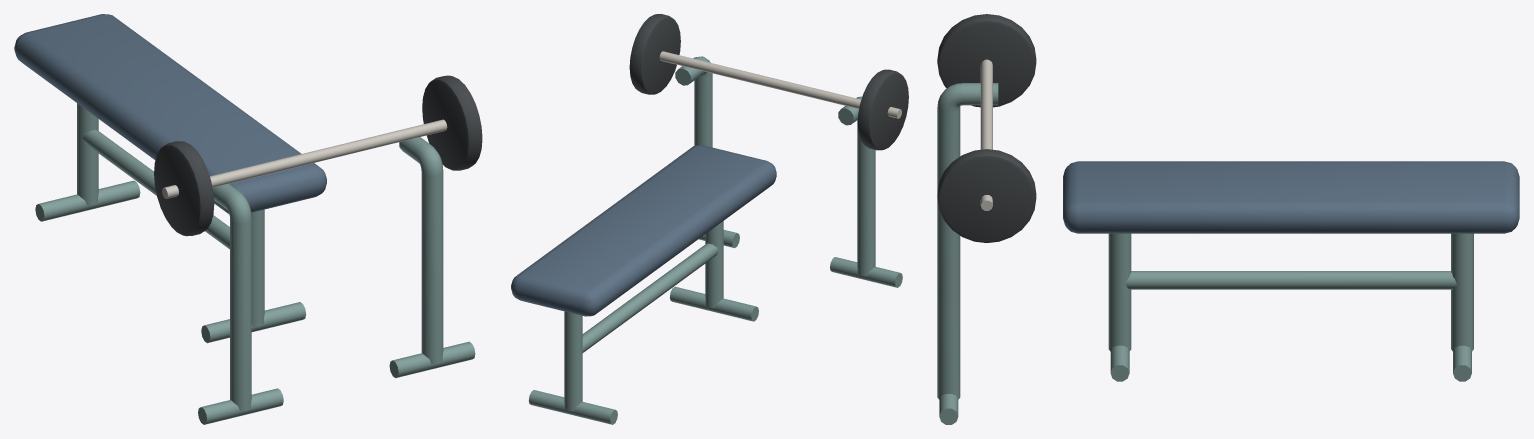
File: weights_bench.glb
3 views of the same model, side by side, from view 1: azimuth 30°, elevation 25°; view 2: azimuth 150°, elevation 25°; view 3: azimuth 270°, elevation 25° (orthographic). The views are drawn at different scales.
Visible parts, largest first — view 1: vinyl, paint, plates, steel; view 2: vinyl, paint, plates, steel; view 3: vinyl, paint, plates, steel.
Boxes of the visible parts, bbox=[...] form: vinyl: bbox=[14, 14, 326, 214]; paint: bbox=[35, 103, 475, 424]; plates: bbox=[154, 75, 482, 236]; steel: bbox=[162, 119, 447, 198]; vinyl: bbox=[511, 145, 776, 316]; paint: bbox=[528, 56, 902, 424]; plates: bbox=[629, 14, 908, 150]; steel: bbox=[659, 51, 901, 118]; vinyl: bbox=[1063, 161, 1519, 233]; paint: bbox=[937, 83, 1473, 424]; plates: bbox=[937, 14, 1036, 242]; steel: bbox=[980, 59, 992, 210].
Bounding box in the file's own units: 0.96 × 0.7938 × 1.53.
